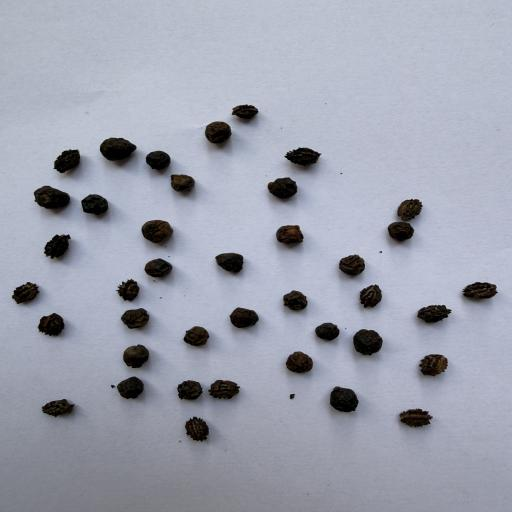Black_pepper: (324, 380, 364, 420), (28, 184, 76, 214), (201, 119, 238, 156), (350, 322, 387, 359), (99, 130, 138, 164), (205, 250, 259, 274), (264, 173, 308, 202), (139, 216, 178, 246), (121, 337, 155, 370), (307, 316, 345, 344), (179, 317, 212, 349), (119, 307, 161, 332), (116, 376, 154, 402), (336, 253, 374, 279), (228, 303, 262, 332), (166, 172, 203, 198), (279, 287, 312, 315), (284, 347, 317, 375), (380, 220, 420, 243), (138, 256, 178, 278), (274, 222, 308, 246), (79, 193, 112, 215), (173, 378, 205, 400), (145, 148, 174, 172)
papaya_seed: (383, 403, 438, 439), (284, 141, 340, 170), (33, 390, 80, 422), (387, 189, 430, 221), (355, 282, 393, 316), (205, 374, 242, 404), (459, 276, 499, 303), (416, 349, 450, 380), (5, 282, 48, 306), (417, 300, 455, 327), (34, 311, 69, 339), (182, 415, 215, 443), (45, 234, 73, 264), (112, 278, 145, 301), (230, 103, 264, 125)
